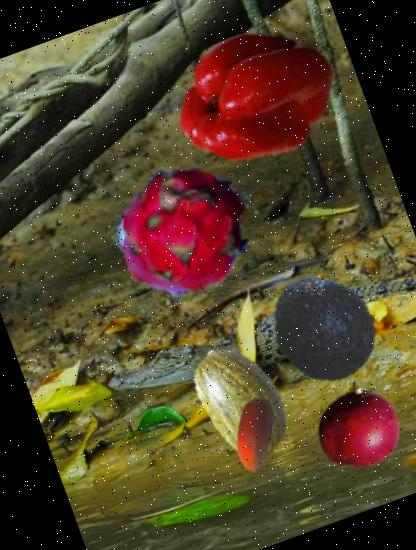Avocado: (248, 257, 392, 401)
Hazelnut: (205, 387, 301, 483)
Melon: (167, 324, 318, 475)
Nectarine: (304, 374, 412, 482)
Pepper: (164, 5, 350, 191)
Pitahaya: (89, 143, 272, 326)
